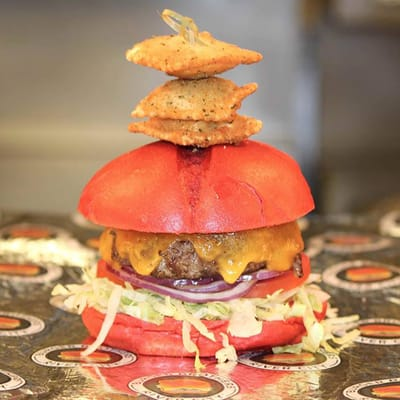soup: (72, 129, 323, 360), (75, 138, 314, 291)
